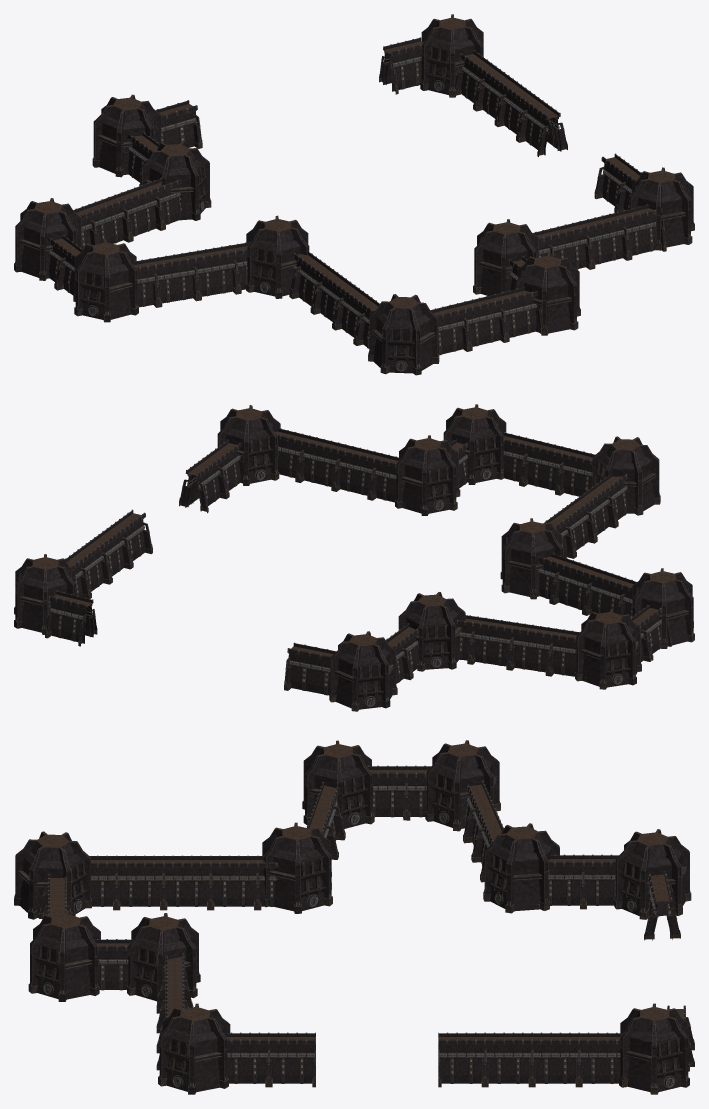
File: Muralla_2.0.fbx
3 views of the same model, one above another, from view 1: azimuth 30°, elevation 25°; view 2: azimuth 150°, elevation 25°; view 3: azimuth 270°, elevation 25° (orthographic). The views are drawn at different scales.
Visible parts, largest first — view 1: Muralla_1, Muralla_Biblioteca, Muralla_3; view 2: Muralla_1, Muralla_Biblioteca, Muralla_3, Muralla_2; view 3: Muralla_1, Muralla_3, Muralla_2, Muralla_Biblioteca.
Part boxes in pixels (bbox=[...]): Muralla_1: bbox=[14, 14, 694, 375]; Muralla_Biblioteca: bbox=[156, 100, 202, 148]; Muralla_3: bbox=[594, 153, 636, 212]; Muralla_1: bbox=[14, 404, 694, 711]; Muralla_Biblioteca: bbox=[284, 642, 336, 695]; Muralla_3: bbox=[179, 455, 227, 513]; Muralla_2: bbox=[207, 439, 243, 497]; Muralla_1: bbox=[14, 740, 694, 1094]; Muralla_3: bbox=[269, 1032, 315, 1087]; Muralla_2: bbox=[224, 1032, 268, 1087]; Muralla_Biblioteca: bbox=[644, 871, 680, 940].
Size of the model in its own units: 14922 by 1521 by 14487.
